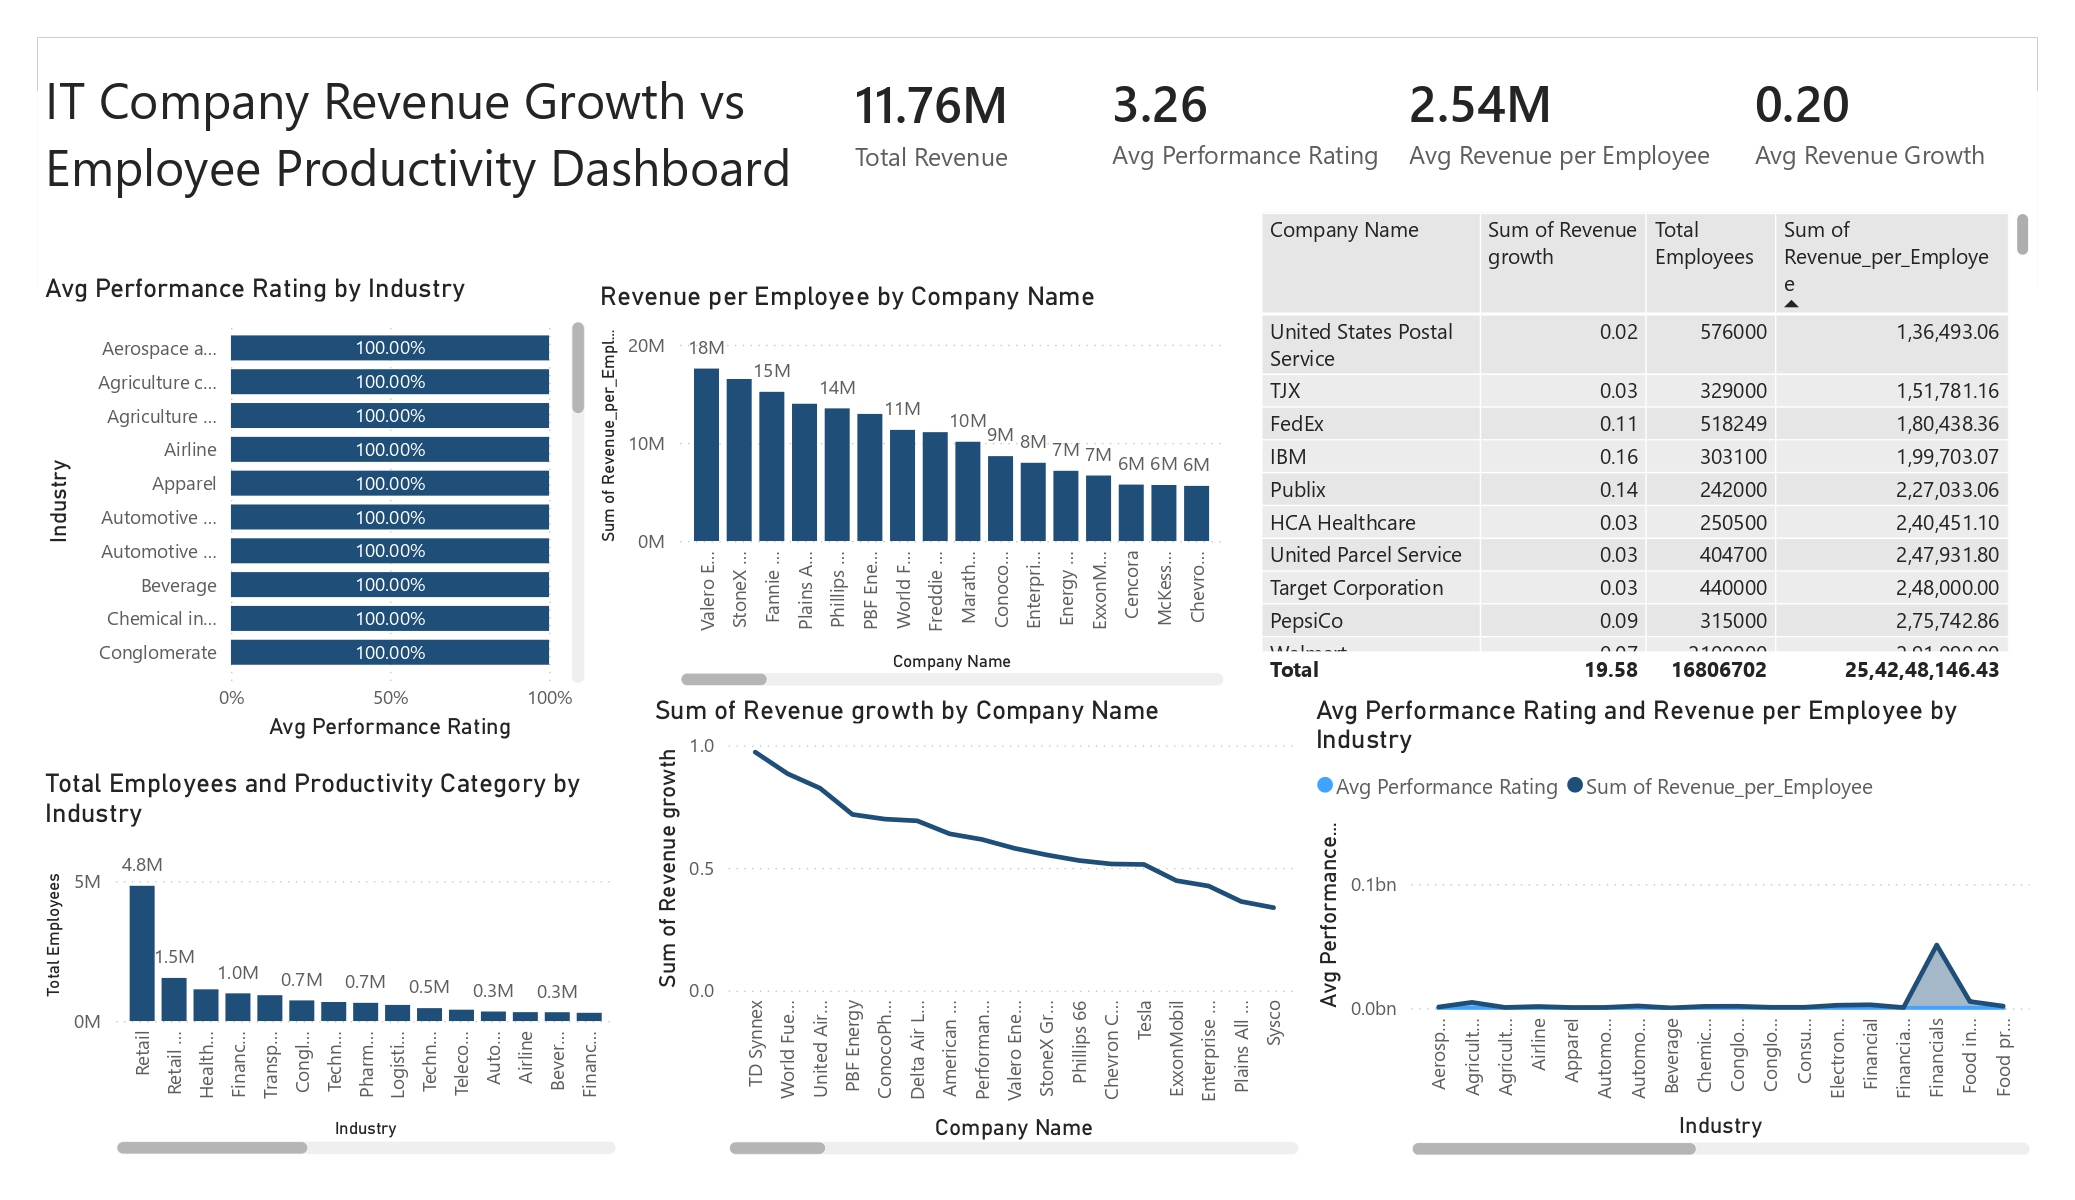

What the dashboard file says about the page in this screenshot:
{"tool":"powerbi","page":{"name":"Page 1","canvas":[1280,720],"ordinal":0},"visuals":[{"type":"cardVisual","fields":{"Data":["final_revenue_productivity.Total Revenue"]},"box":[494,1.4,177,105.7],"z":0},{"type":"cardVisual","fields":{"Data":["final_revenue_productivity.Avg Performance Rating"]},"box":[658.7,0,234.6,105.7],"z":1},{"type":"cardVisual","fields":{"Data":["final_revenue_productivity.Avg Revenue per Employee"]},"box":[849.4,0,251.1,105.7],"z":2},{"type":"cardVisual","fields":{"Data":["final_revenue_productivity.Avg Revenue Growth"]},"box":[1070.3,0,209.9,105.7],"z":3},{"type":"hundredPercentStackedBarChart","fields":{"Category":["final_revenue_productivity.Industry"],"Y":["final_revenue_productivity.Avg Performance Rating"]},"box":[0,149.6,355.4,306],"z":4},{"type":"clusteredColumnChart","fields":{"Category":["final_revenue_productivity.Industry"],"Y":["final_revenue_productivity.Total Employees"]},"box":[0,466.6,374.6,253.9],"z":5},{"type":"lineChart","fields":{"Category":["final_revenue_productivity. Company Name"],"Y":["Sum(final_revenue_productivity.Revenue growth)"]},"box":[389.7,419.9,422.6,300.5],"z":6},{"type":"columnChart","title":"Revenue per Employee by  Company Name","fields":{"Category":["final_revenue_productivity. Company Name"],"Y":["Sum(final_revenue_productivity.Revenue_per_Employee)"]},"box":[355.4,155.1,408.9,264.8],"z":7},{"type":"tableEx","fields":{"Values":["final_revenue_productivity. Company Name","Sum(final_revenue_productivity.Revenue growth)","final_revenue_productivity.Total Employees","Sum(final_revenue_productivity.Revenue_per_Employee)"]},"box":[776.7,107,503.6,312.9],"z":8},{"type":"areaChart","title":"Avg Performance Rating and Revenue per Employee by Industry","fields":{"Y":["final_revenue_productivity.Avg Performance Rating","Sum(final_revenue_productivity.Revenue_per_Employee)"],"Category":["final_revenue_productivity.Industry"]},"box":[813,420,467,300],"z":9},{"type":"textbox","box":[0,12.3,503.6,111.1],"z":10}]}

Visuals, with their boxes on the page's 1280x720 design canvas (x1, y1, x2, y2). These are canvas units, not pixel positions in the 2075x1200 screenshot, which may show the page scaled, cropped or inside an application window:
cardVisual - final_revenue_productivity.Total Revenue: [494,1,671,107]
cardVisual - final_revenue_productivity.Avg Performance Rating: [659,0,893,106]
cardVisual - final_revenue_productivity.Avg Revenue per Employee: [849,0,1100,106]
cardVisual - final_revenue_productivity.Avg Revenue Growth: [1070,0,1280,106]
hundredPercentStackedBarChart - final_revenue_productivity.Industry x final_revenue_productivity.Avg Performance Rating: [0,150,355,456]
clusteredColumnChart - final_revenue_productivity.Industry x final_revenue_productivity.Total Employees: [0,467,375,720]
lineChart - final_revenue_productivity. Company Name x Sum(final_revenue_productivity.Revenue growth): [390,420,812,720]
"Revenue per Employee by  Company Name" columnChart: [355,155,764,420]
tableEx - final_revenue_productivity. Company Name x Sum(final_revenue_productivity.Revenue growth): [777,107,1280,420]
"Avg Performance Rating and Revenue per Employee by Industry" areaChart: [813,420,1280,720]
textbox: [0,12,504,123]
